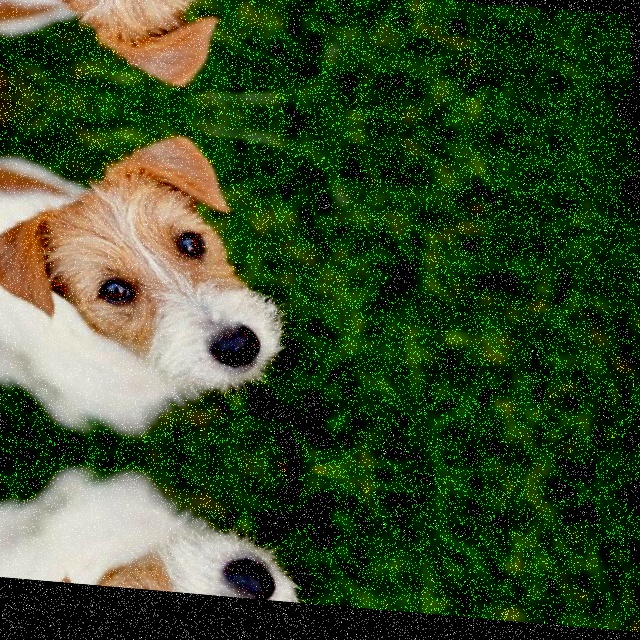dog: (0, 94, 291, 449), (0, 458, 300, 603), (0, 0, 269, 115)
